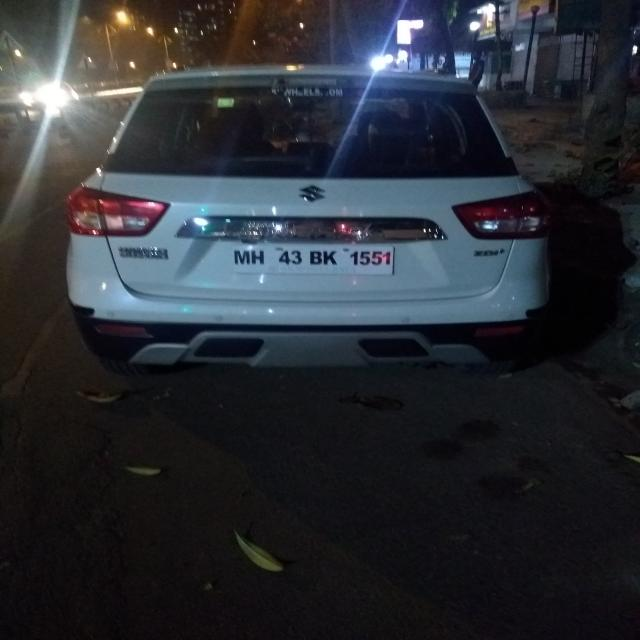Number-Plate: (226, 241, 405, 275)
